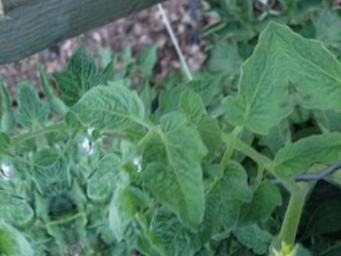Tomato leaf mosaic virus: (191, 0, 305, 152), (123, 101, 232, 246), (65, 70, 157, 147), (75, 147, 133, 210), (261, 134, 319, 190), (212, 153, 259, 211), (176, 86, 209, 128)
